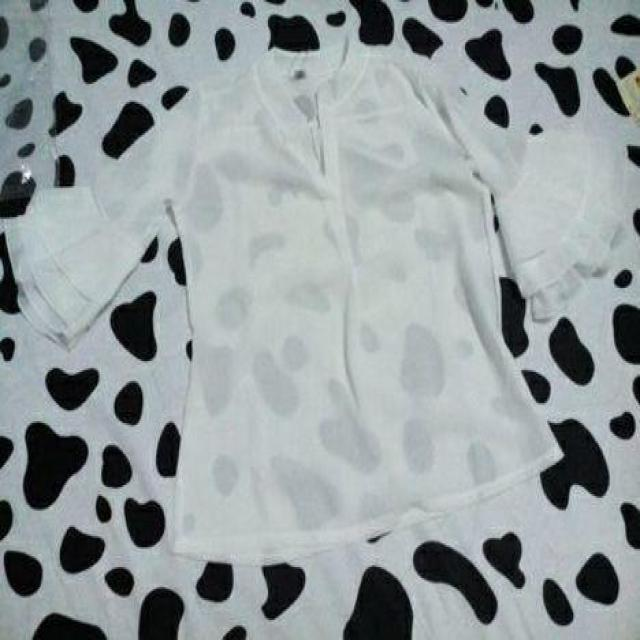short sleeve top: (7, 40, 622, 547)
